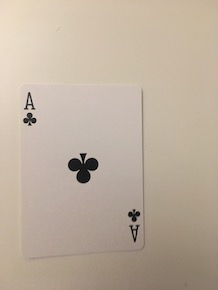AceOfClubs: (17, 78, 155, 260)
